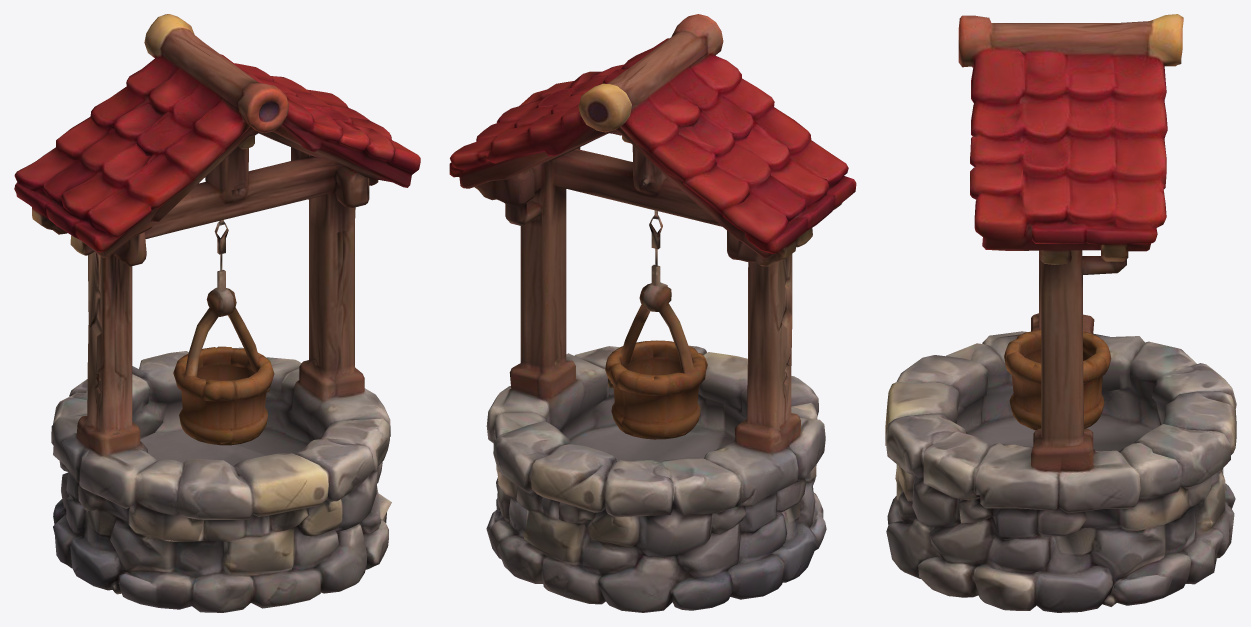
The model's file is pozo_tripo.glb.
3 views of the same model, side by side, from view 1: azimuth 30°, elevation 25°; view 2: azimuth 150°, elevation 25°; view 3: azimuth 270°, elevation 25° (orthographic). The views are drawn at different scales.
Parts seen in each view (by area): view 1: tripo_node_3bda605d-e288-475d-a0f2-8e3725e7c8b9; view 2: tripo_node_3bda605d-e288-475d-a0f2-8e3725e7c8b9; view 3: tripo_node_3bda605d-e288-475d-a0f2-8e3725e7c8b9.
Part boxes in pixels (x1,y1,x2,y2): tripo_node_3bda605d-e288-475d-a0f2-8e3725e7c8b9: [14, 14, 420, 612]; tripo_node_3bda605d-e288-475d-a0f2-8e3725e7c8b9: [449, 14, 856, 612]; tripo_node_3bda605d-e288-475d-a0f2-8e3725e7c8b9: [885, 14, 1236, 612].
Bounding box in the file's own units: 0.679 × 0.9775 × 0.5949.
Materials: 1 (1 with a texture image).
